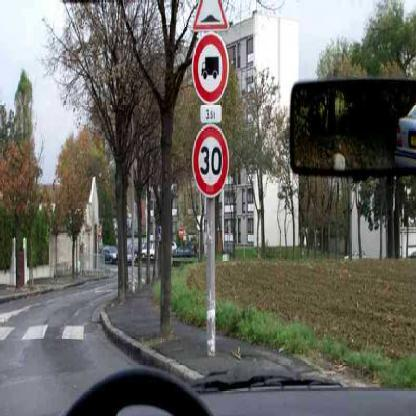Speed Limit 30: (192, 124, 228, 195)
